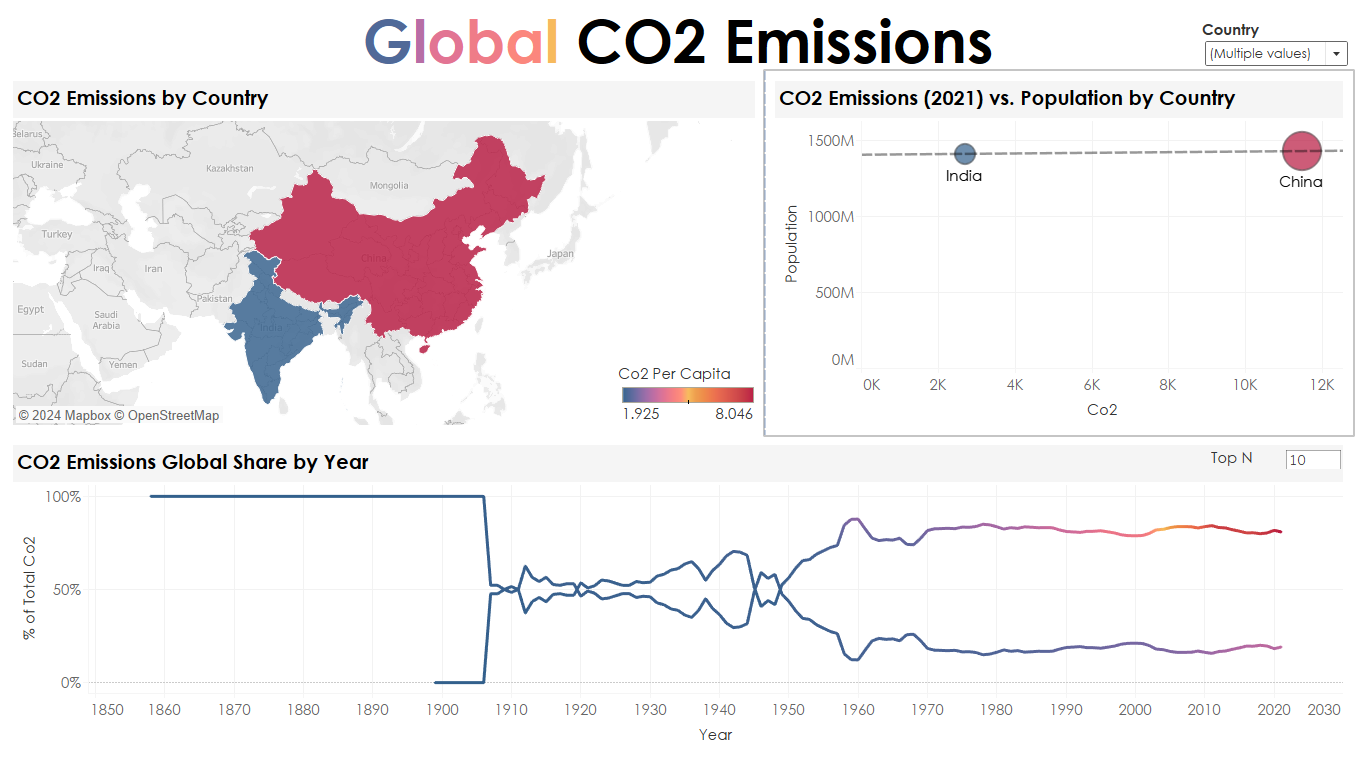

What the dashboard file says about the page in this screenshot:
{"tool":"tableau","page":{"name":"Global CO2 Emissions","canvas":[1366,768],"ordinal":0},"visuals":[{"type":"text","box":[8,8,1350,63.2]},{"type":"filter","title":"Map","param":"[federated.0qpziib1qk9rpu12heb5i0mj1wvz].[none:Country (copy)_124721568004842700","box":[1207,20,149,48]},{"type":"worksheet","title":"Map","mark":"Automatic","box":[8,71.2,762,363.8]},{"type":"worksheet","title":"Scatter Plot","mark":"Circle","rows":["population"],"cols":["co2"],"box":[770,71.2,588,363.8]},{"type":"legend","title":"Map","param":"[federated.0qpziib1qk9rpu12heb5i0mj1wvz].[sum:co2_per_capita:qk]","box":[623,364,140,64]},{"type":"worksheet","title":"Line Chart","mark":"Automatic","cols":["year"],"box":[8,435,1350,325]},{"type":"parameter","param":"[Parameters].[Parameter 1]","box":[1216,447,133,22]}]}

Visuals, with their boxes in screenshot pixels (x1, y1, x2, y2), scaled from the page's 1366x768 canvas onto the 1357x762 screenshot:
text: l=8, t=8, r=1349, b=71
"Map" filter: l=1199, t=20, r=1347, b=67
"Map" worksheet: l=8, t=71, r=765, b=432
"Scatter Plot" worksheet (Circle marks): l=765, t=71, r=1349, b=432
"Map" legend: l=619, t=361, r=758, b=425
"Line Chart" worksheet: l=8, t=432, r=1349, b=754
parameter: l=1208, t=444, r=1340, b=465
